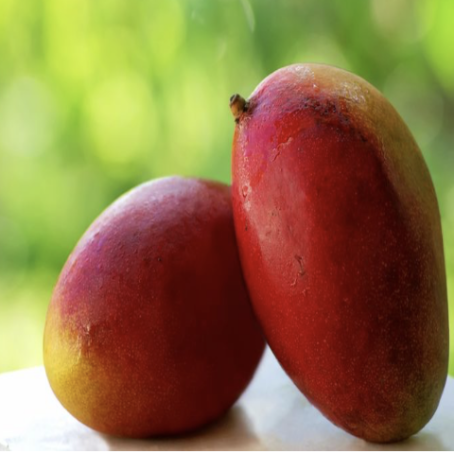mango: (204, 58, 453, 454), (21, 173, 298, 449)
